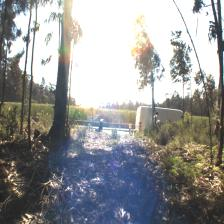trunktrack_idkeyframe: (44, 28, 70, 140), (215, 38, 224, 166)
